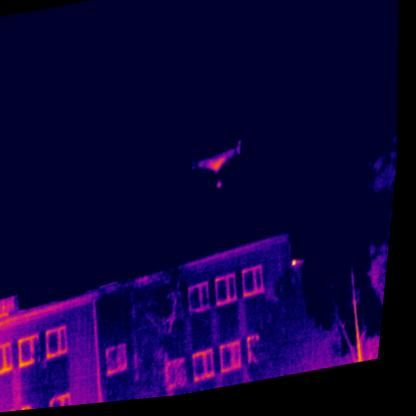drone: (192, 144, 248, 197)
